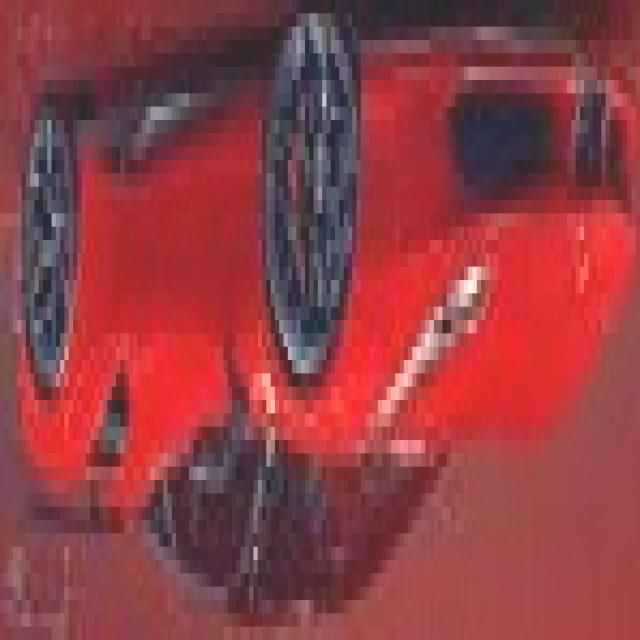red: (17, 0, 633, 626)
